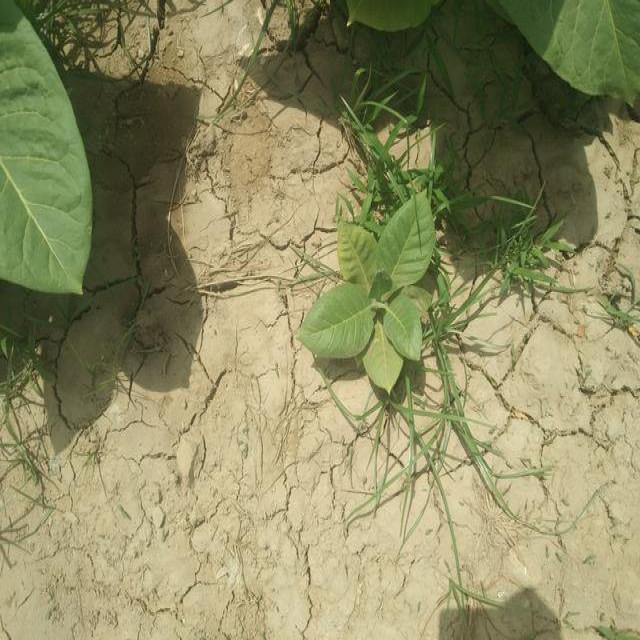crop: (296, 199, 430, 399), (0, 15, 78, 313), (494, 0, 640, 103)
